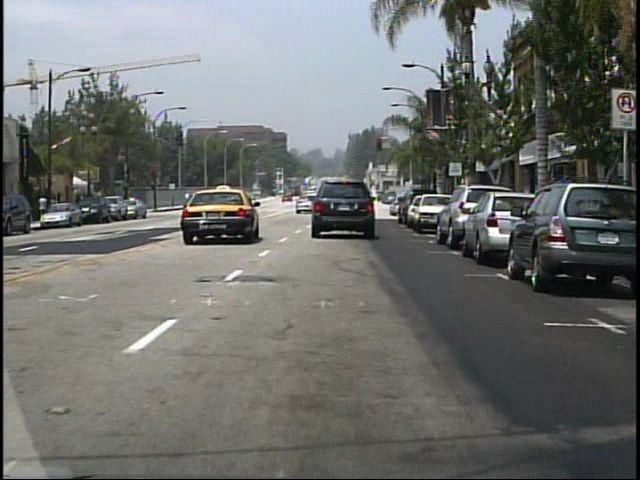person: (39, 193, 51, 223), (327, 190, 340, 213), (244, 189, 256, 212)
